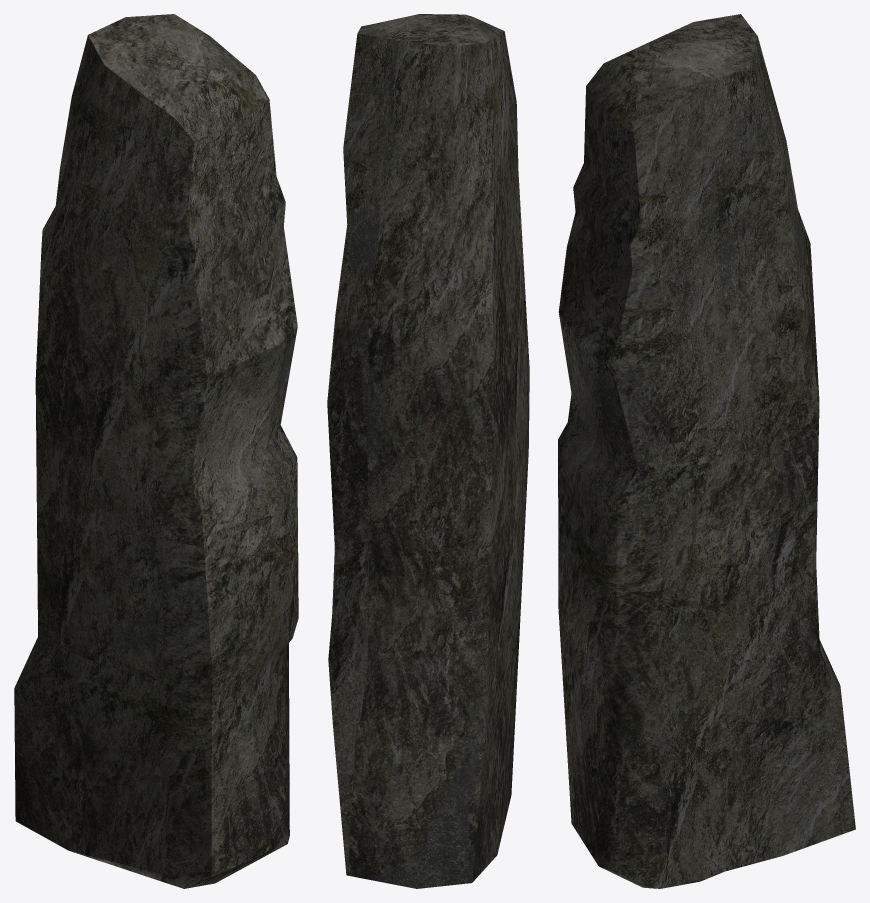
Rendered from G3_Object_Stonepillar_01.obj.
The picture shows the model from 3 angles, left to right: view 1: azimuth 30°, elevation 25°; view 2: azimuth 150°, elevation 25°; view 3: azimuth 270°, elevation 25°; orthographic projection.
Visible parts, largest first — view 1: G3_Object_Stonepillar_01_0; view 2: G3_Object_Stonepillar_01_0; view 3: G3_Object_Stonepillar_01_0.
Boxes of the visible parts, bbox=[...] form: G3_Object_Stonepillar_01_0: bbox=[14, 14, 298, 888]; G3_Object_Stonepillar_01_0: bbox=[327, 14, 529, 888]; G3_Object_Stonepillar_01_0: bbox=[558, 14, 855, 888].
Size of the model in its own units: 1.42 by 5.62 by 1.83.
Materials: 1 (1 with a texture image).
